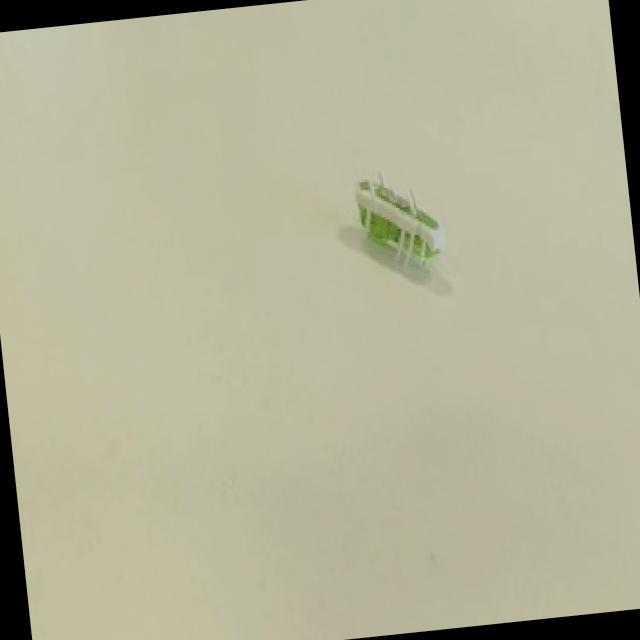4_NanoBug_Blanco: (322, 150, 460, 312)
